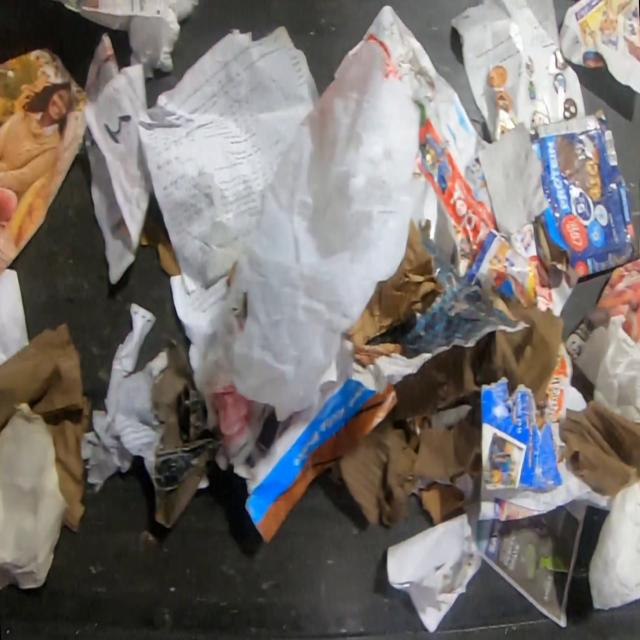cardboard: (327, 294, 566, 527), (528, 108, 637, 284), (0, 324, 90, 536), (557, 400, 640, 495)
soft_plastic: (210, 38, 420, 421)
